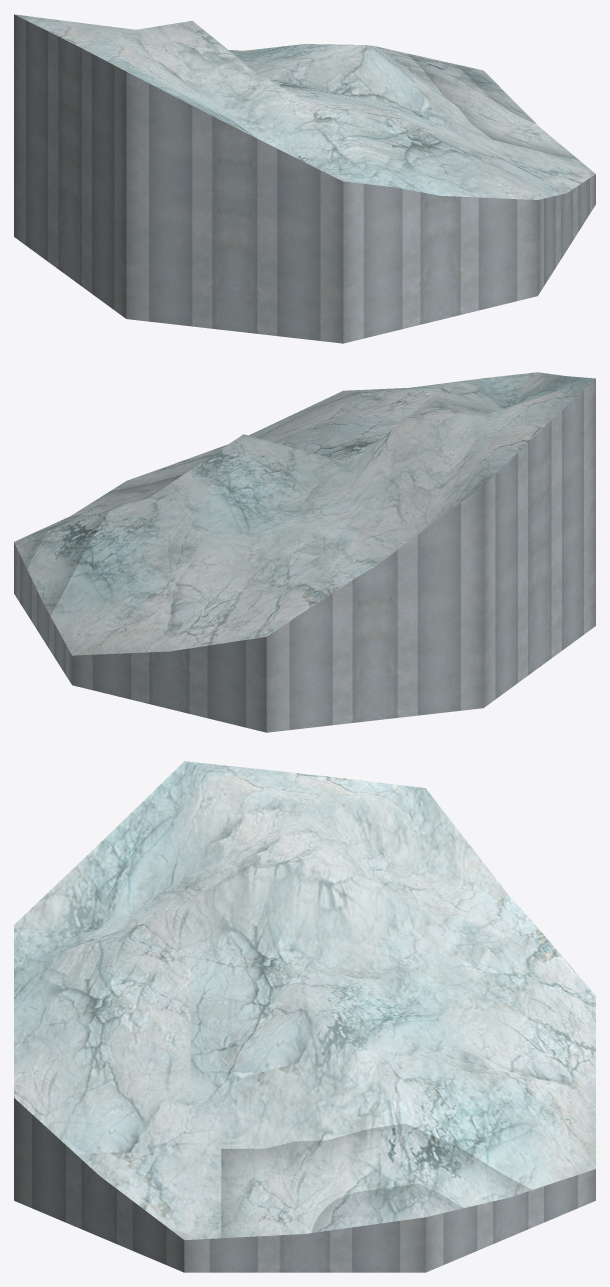
File: GaintColumn4.fbx
The picture shows the model from 3 angles, top to bottom: view 1: azimuth 30°, elevation 25°; view 2: azimuth 150°, elevation 25°; view 3: azimuth 270°, elevation 25°; orthographic projection. The views are drawn at different scales.
Visible parts, largest first — view 1: GiantColumn4; view 2: GiantColumn4; view 3: GiantColumn4.
Part boxes in pixels (x1,y1,x2,y2): GiantColumn4: (14, 14, 595, 343); GiantColumn4: (14, 372, 595, 732); GiantColumn4: (14, 761, 595, 1272).
Size of the model in its own units: 6.83 by 3.44 by 6.83.
